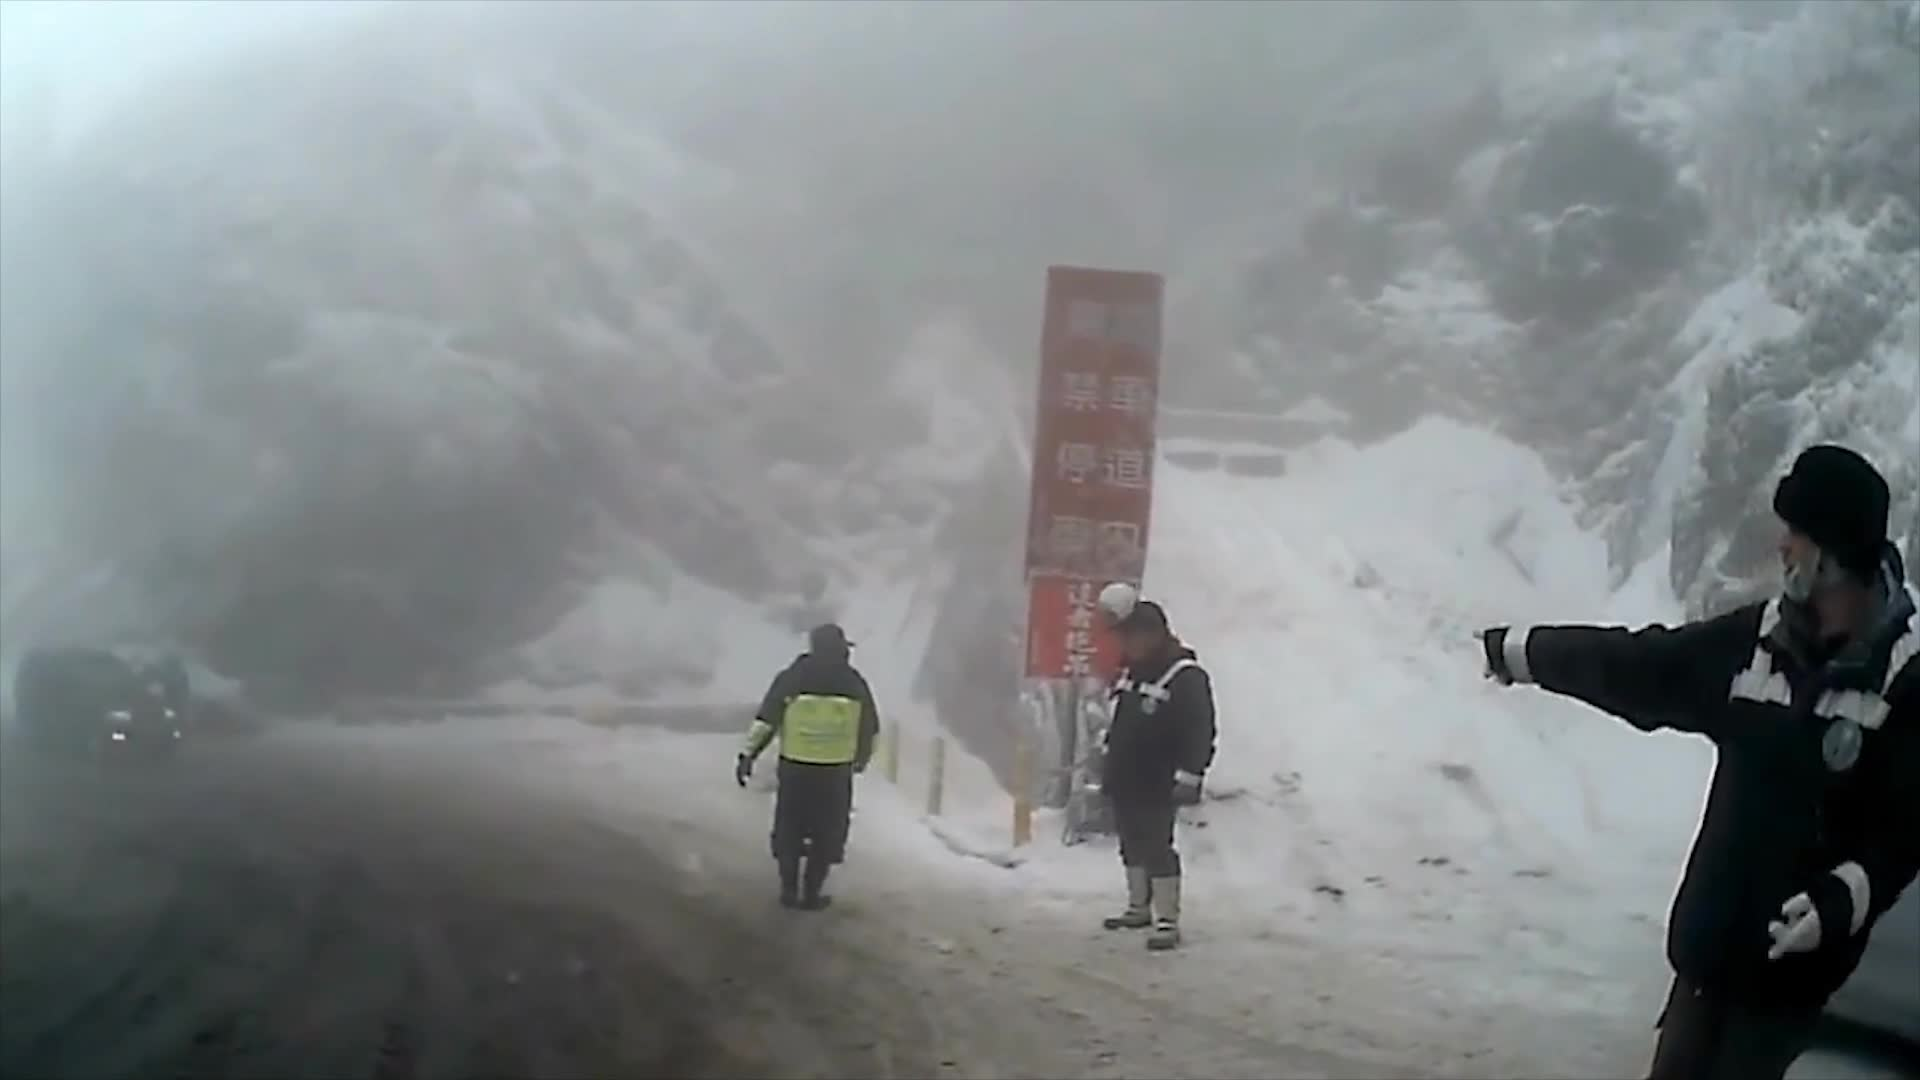pedestrian: (1460, 445, 1909, 1079), (1099, 607, 1220, 954), (735, 636, 880, 917)
vehicle: (15, 648, 184, 769)
